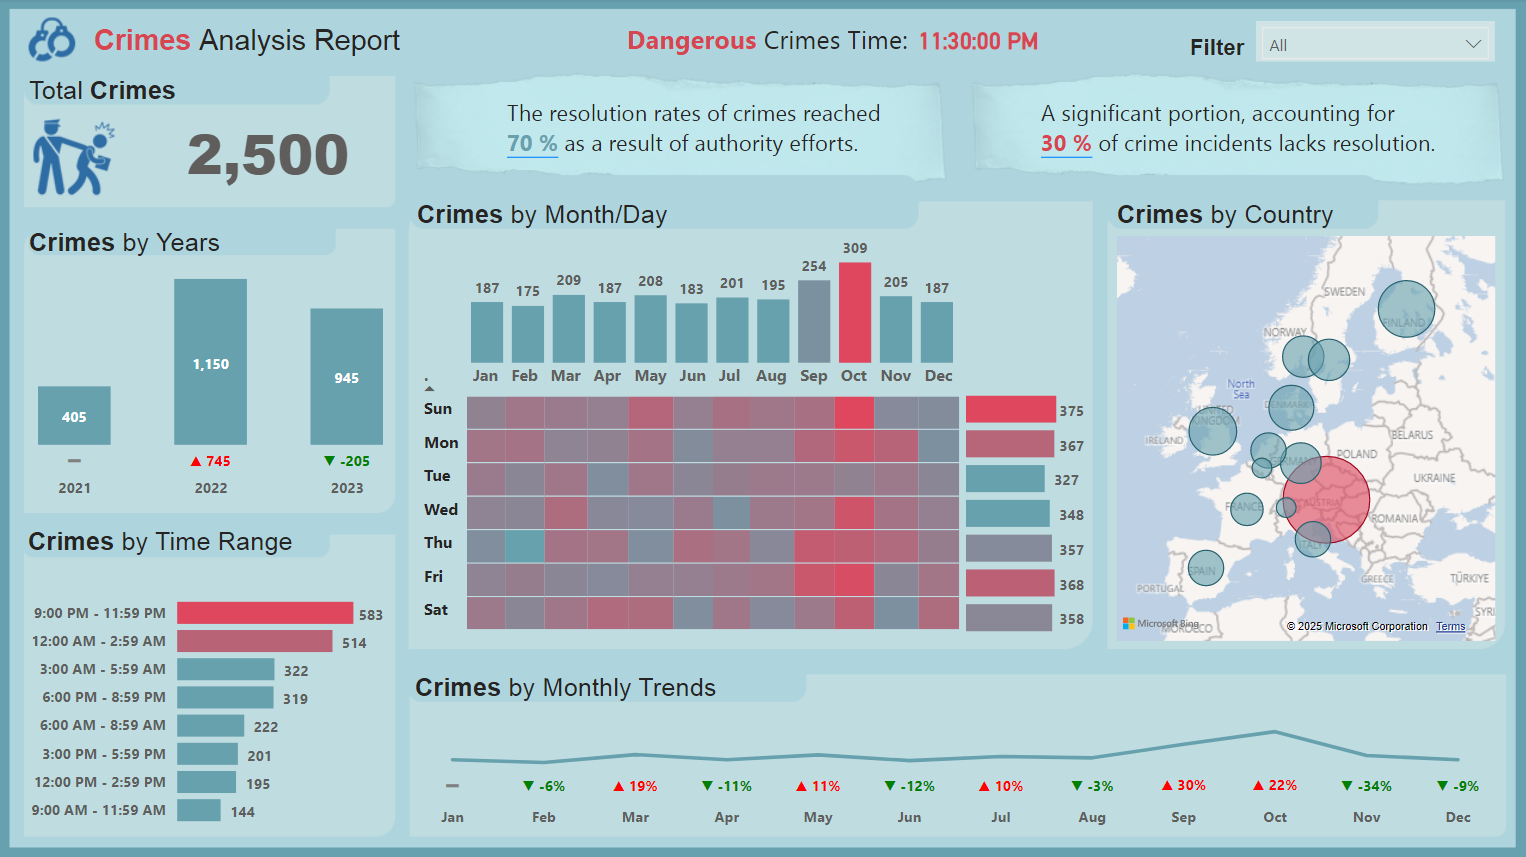

The dashboard page shown, as its layout file describes it:
{"tool":"powerbi","page":{"name":"Crime Analysis","canvas":[1280,720],"ordinal":0},"visuals":[{"type":"card","fields":{"Values":["Calculations.Total Crimes"]},"box":[138.2,93.3,175.7,68.6],"z":0},{"type":"columnChart","fields":{"Category":["Date.Year"],"Y":["Calculations.Blank Measure (Year)","Calculations.Total Crimes"]},"box":[28.4,214.1,299.2,213.2],"z":1000},{"type":"lineChart","fields":{"Category":["Date.Month"],"Y":["Calculations.Blank Measure (Month)","Calculations.Total Crimes"]},"box":[344.9,581.9,913.1,120.8],"z":2000},{"type":"clusteredBarChart","fields":{"Category":["Crimes Data.Time Group"],"Y":["Calculations.Total Crimes"]},"box":[22,482.2,305.6,220.5],"z":3000},{"type":"textbox","box":[521.8,13.9,262.6,42.1],"z":4000,"group":"g2"},{"type":"textbox","box":[420.9,76.9,334.9,65],"z":4000},{"type":"textbox","box":[868.3,76.9,350.4,65],"z":5000},{"type":"pivotTable","fields":{"Rows":["Date.Weekday"],"Columns":["Date.Month"],"Values":["Calculations.Total Crimes"]},"box":[346.8,300,473.9,244.6],"z":5000,"group":"g1"},{"type":"clusteredColumnChart","fields":{"Y":["Calculations.Total Crimes"],"Category":["Date.Month"]},"box":[391.1,182.9,414.1,128.3],"z":6000,"group":"g1"},{"type":"map","fields":{"Category":["Crimes Data.Country"],"Size":["Calculations.Total Crimes"]},"box":[931.4,193.1,326.6,348.6],"z":6000},{"type":"group","id":"g1","title":"Group 1","box":[346.8,182.9,567.3,361.4],"z":7000},{"type":"clusteredBarChart","fields":{"Y":["Calculations.Total Crimes"],"Category":["Date.Weekday"]},"box":[805.2,319.3,108.9,216.1],"z":7000,"group":"g1"},{"type":"group","id":"g2","title":"Group 1","box":[521.8,13.9,378.8,42.1],"z":8000},{"type":"card","fields":{"Values":["Min(Crimes Data.Crime Time)"]},"box":[742.3,18.5,158.3,33.9],"z":8000,"group":"g2"},{"type":"textbox","box":[21,59.5,157.4,38.4],"z":9000},{"type":"textbox","box":[21,186.6,215,34.8],"z":10000},{"type":"textbox","box":[20.1,437.3,271.7,40.3],"z":11000},{"type":"textbox","box":[345.8,162.9,259.8,42.1],"z":12000},{"type":"textbox","box":[931.4,162.9,243.4,40.3],"z":13000},{"type":"textbox","box":[344,559,322.1,38.4],"z":14000},{"type":"textbox","box":[75,15.6,276.3,40.3],"z":15000},{"type":"slicer","fields":{"Values":["Crime Types.Crime"]},"box":[1053.3,18.7,199.6,34.3],"z":16000},{"type":"textbox","box":[993,25,68.6,32.2],"z":17000}]}

Visuals, with their boxes in screenshot pixels (x1, y1, x2, y2), scaled from the page's 1280x720 canvas onto the 1526x857 screenshot:
card - Calculations.Total Crimes: (165,111,374,193)
columnChart - Date.Year x Calculations.Blank Measure (Year): (34,255,391,509)
lineChart - Date.Month x Calculations.Blank Measure (Month): (411,693,1500,836)
clusteredBarChart - Crimes Data.Time Group x Calculations.Total Crimes: (26,574,391,836)
textbox: (622,17,935,67)
textbox: (502,92,901,169)
textbox: (1035,92,1453,169)
pivotTable - Date.Weekday x Date.Month: (413,357,978,648)
clusteredColumnChart - Calculations.Total Crimes x Date.Month: (466,218,960,370)
map - Crimes Data.Country x Calculations.Total Crimes: (1110,230,1500,645)
"Group 1" group: (413,218,1090,648)
clusteredBarChart - Calculations.Total Crimes x Date.Weekday: (960,380,1090,637)
"Group 1" group: (622,17,1074,67)
card - Min(Crimes Data.Crime Time): (885,22,1074,62)
textbox: (25,71,213,117)
textbox: (25,222,281,264)
textbox: (24,521,348,568)
textbox: (412,194,722,244)
textbox: (1110,194,1401,242)
textbox: (410,665,794,711)
textbox: (89,19,419,67)
slicer - Crime Types.Crime: (1256,22,1494,63)
textbox: (1184,30,1266,68)
